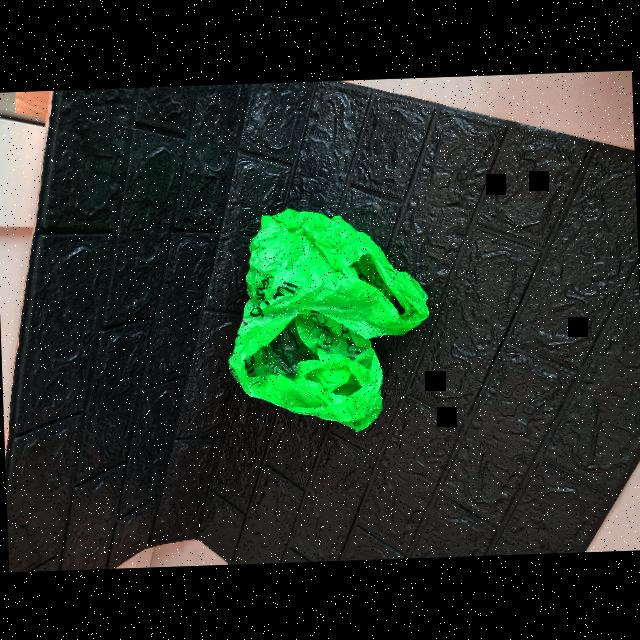plastic_bag: (222, 199, 422, 431)
